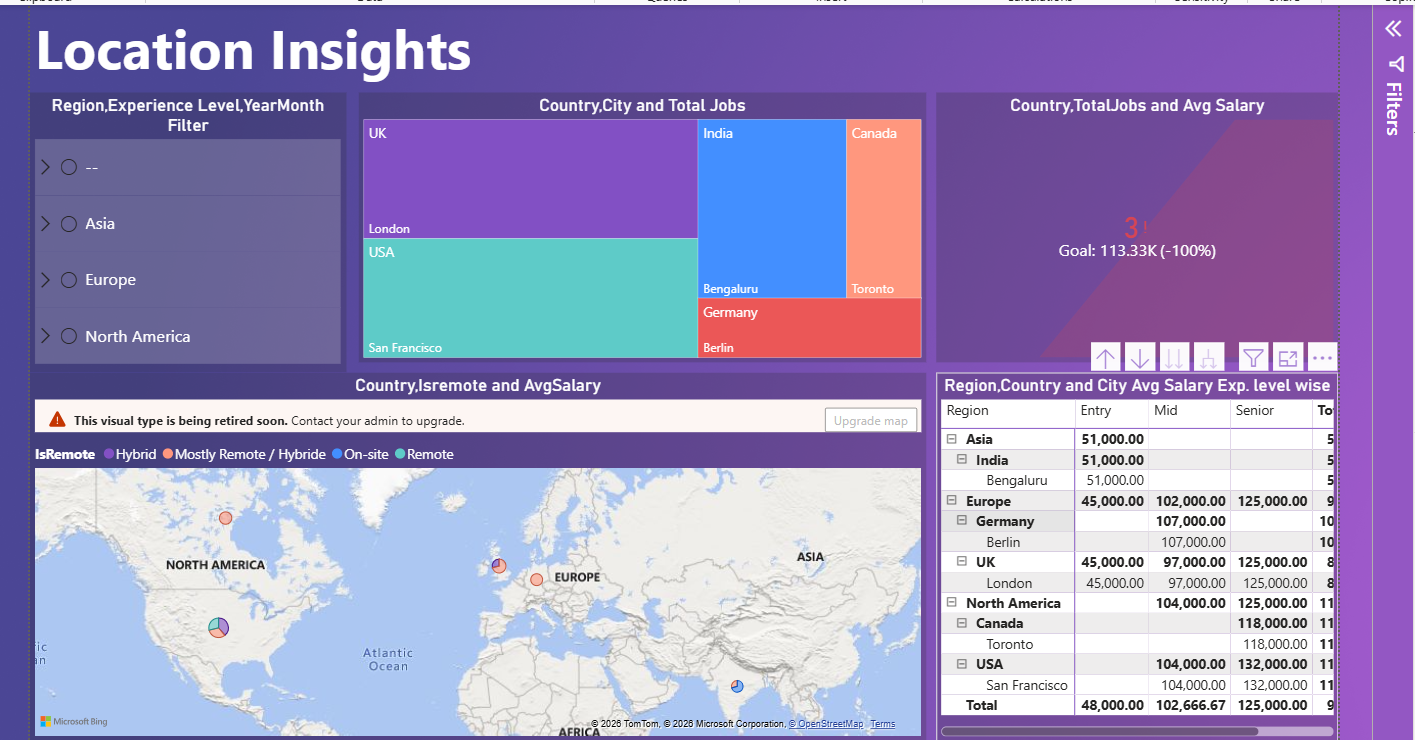

What the dashboard file says about the page in this screenshot:
{"tool":"powerbi","page":{"name":"Location Insights","canvas":[1280,720],"ordinal":1},"visuals":[{"type":"listSlicer","title":"Region,Experience Level,YearMonth Filter","fields":{"Values":["Dim_Locations.Region","Dim_Date.YearMonth","Fact_Jobs.Experience_Level"]},"box":[0,85.6,309.4,273.9],"z":0},{"type":"textbox","box":[0,0,546.6,85.6],"z":1000},{"type":"map","title":"Country,Isremote and  AvgSalary","fields":{"Category":["Dim_Locations.Country"],"Size":["Fact_Jobs.AvgSalaryByCountry"],"Series":["Fact_Jobs.IsRemote"]},"box":[0,359.5,876.8,360.7],"z":2000},{"type":"kpi","title":"Country,TotalJobs and Avg Salary","fields":{"Goal":["Fact_Jobs.AvgSalaryByCountry"],"Indicator":["Fact_Jobs.TotalJobs"],"TrendLine":["Dim_Locations.Country"]},"box":[886.6,85.6,393.8,264.1],"z":3000},{"type":"treemap","title":"Country,City and Total Jobs","fields":{"Group":["Dim_Locations.Country"],"Details":["Dim_Locations.City"],"Values":["Fact_Jobs.TotalJobs"]},"box":[321.6,85.6,555.2,264.1],"z":4000},{"type":"pivotTable","title":"Region,Country and City Avg Salary Exp. level wise","fields":{"Values":["Fact_Jobs.AvgSalaryByCountry"],"Rows":["Dim_Locations.Region","Dim_Locations.Country","Dim_Locations.City"],"Columns":["Fact_Jobs.Experience_Level"]},"box":[886.6,359.5,393.8,360.7],"z":5000}]}

Visuals, with their boxes on the page's 1280x720 design canvas (x1, y1, x2, y2). These are canvas units, not pixel positions in the 1415x740 screenshot, which may show the page scaled, cropped or inside an application window:
"Region,Experience Level,YearMonth Filter" listSlicer: bbox=(0, 86, 309, 360)
textbox: bbox=(0, 0, 547, 86)
"Country,Isremote and  AvgSalary" map: bbox=(0, 360, 877, 720)
"Country,TotalJobs and Avg Salary" kpi: bbox=(887, 86, 1280, 350)
"Country,City and Total Jobs" treemap: bbox=(322, 86, 877, 350)
"Region,Country and City Avg Salary Exp. level wise" pivotTable: bbox=(887, 360, 1280, 720)
